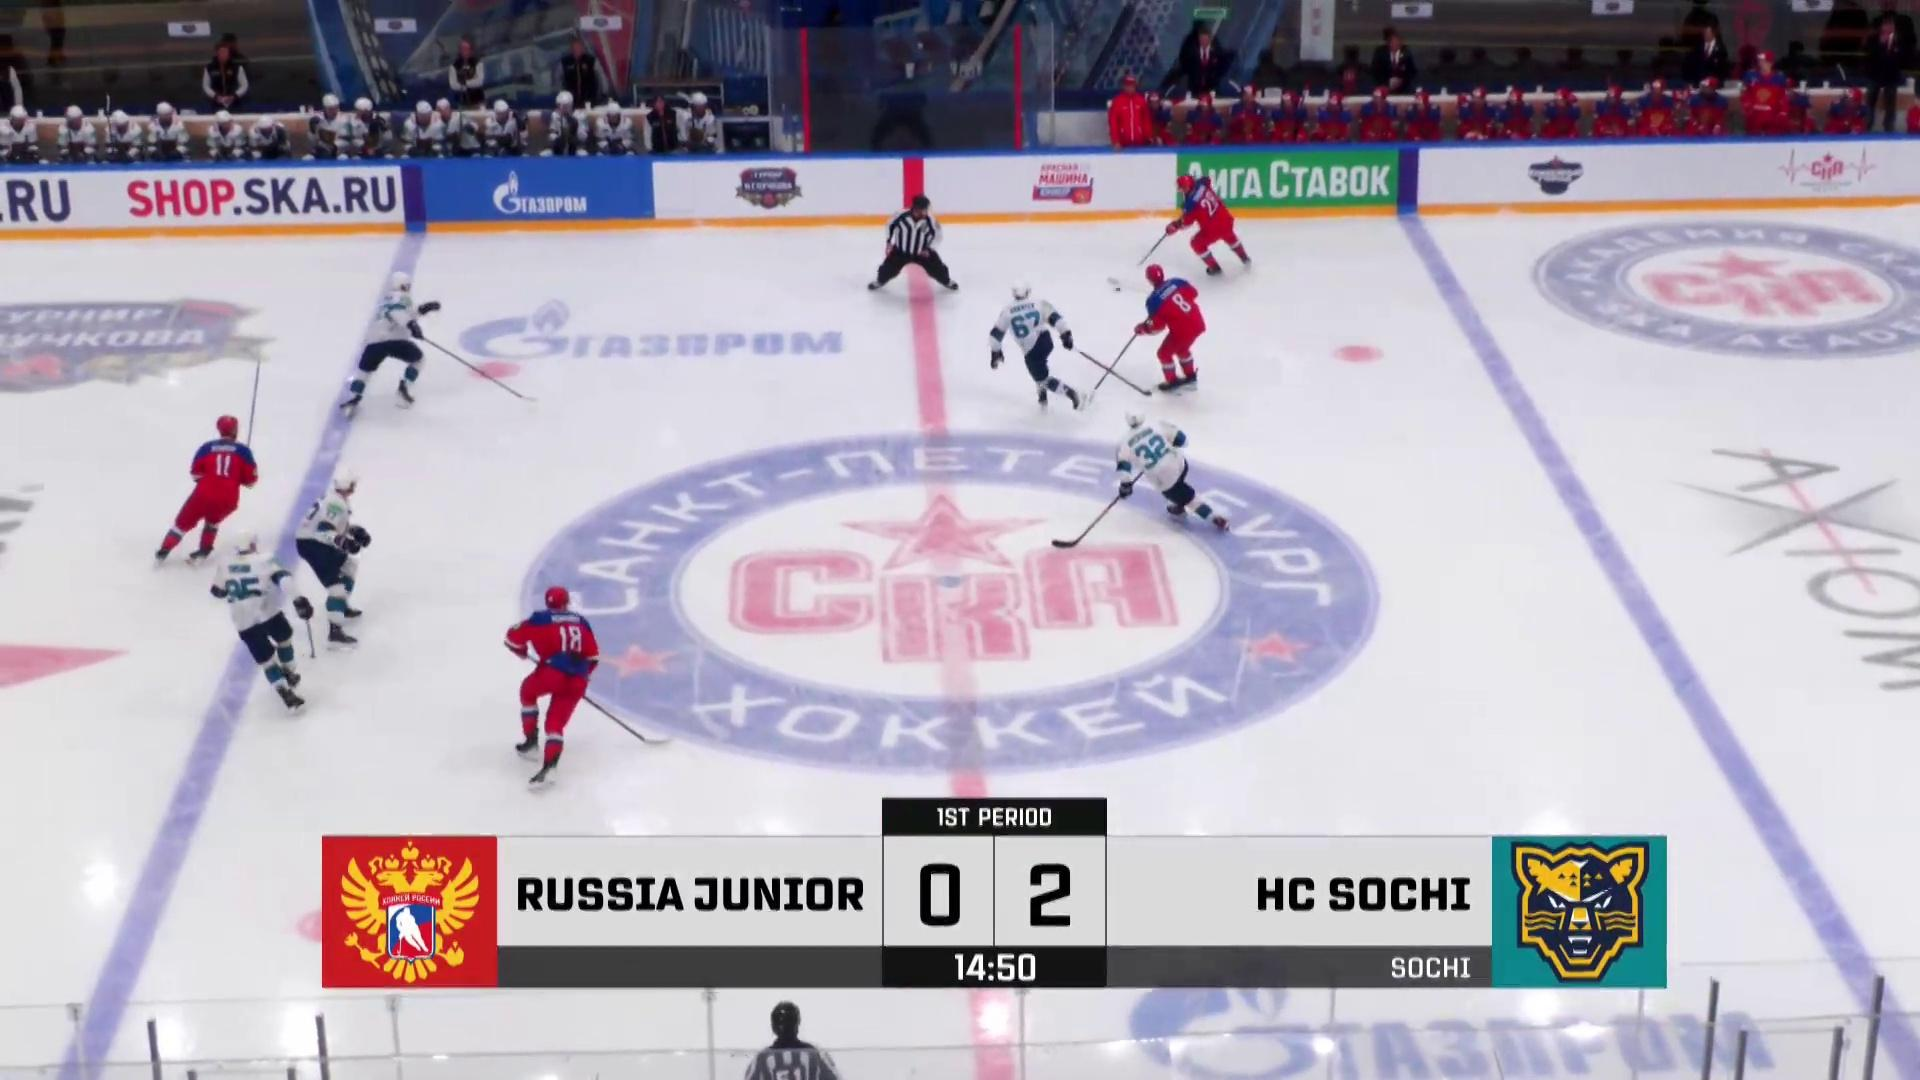ball: (1116, 287, 1121, 291)
